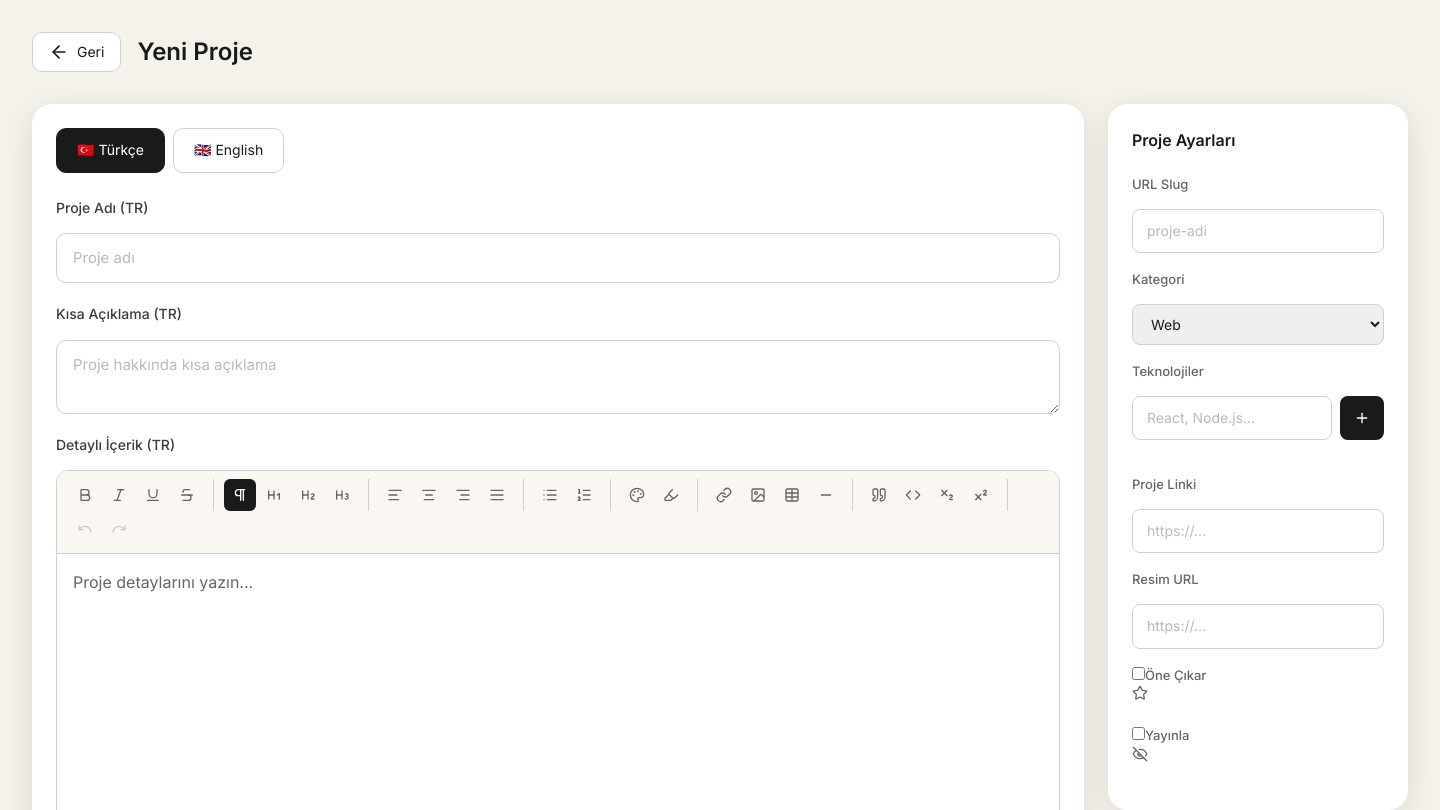
Scenario: ProjectEditor › generates slug from title
Step 1. Type "Yeni Proje" into the field with placeholder "Proje adı" → (558, 258), box x1=56 y1=233 x2=1060 y2=283
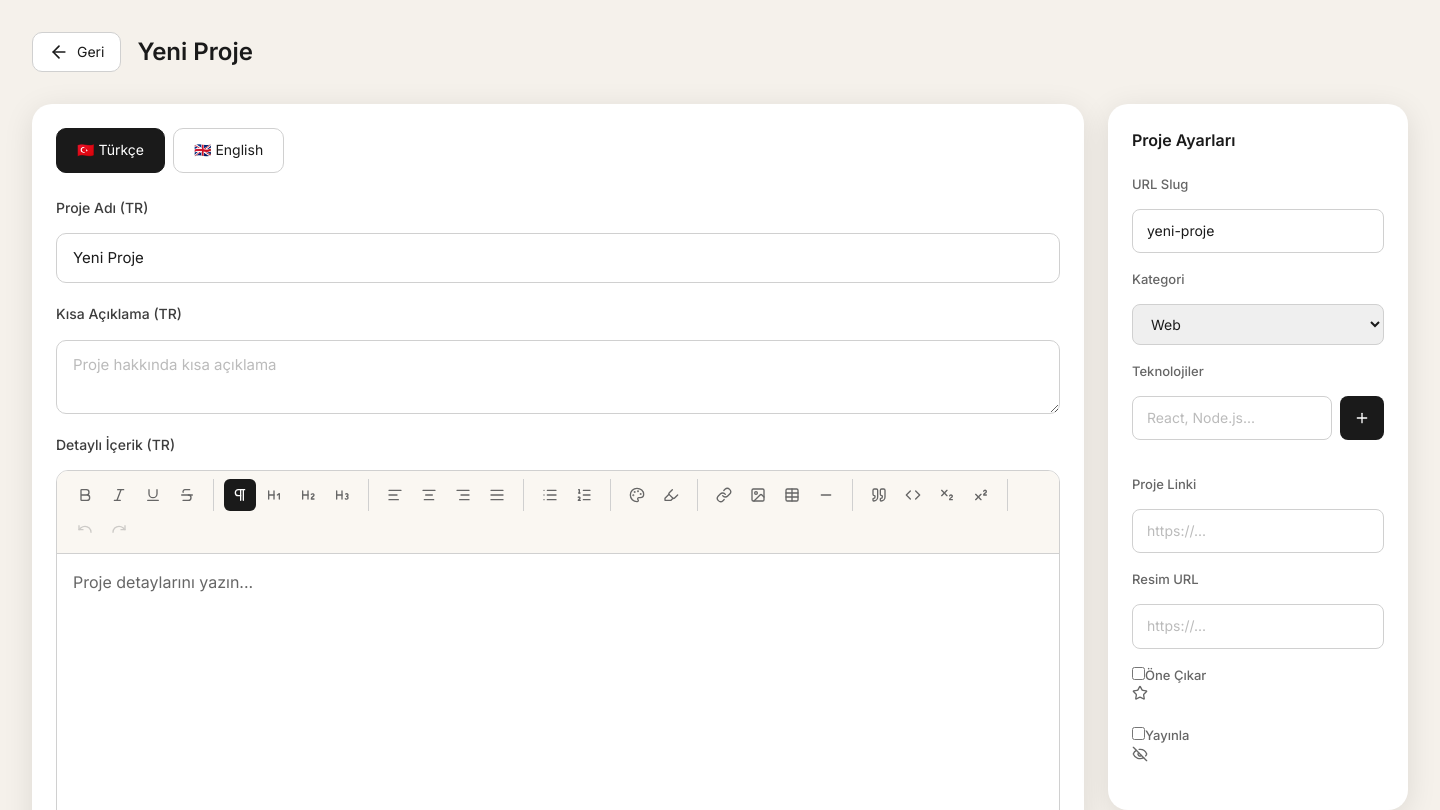
Now the field with placeholder "proje-adi" below "URL Slug" holds "yeni-proje", box x1=1132 y1=209 x2=1384 y2=253
